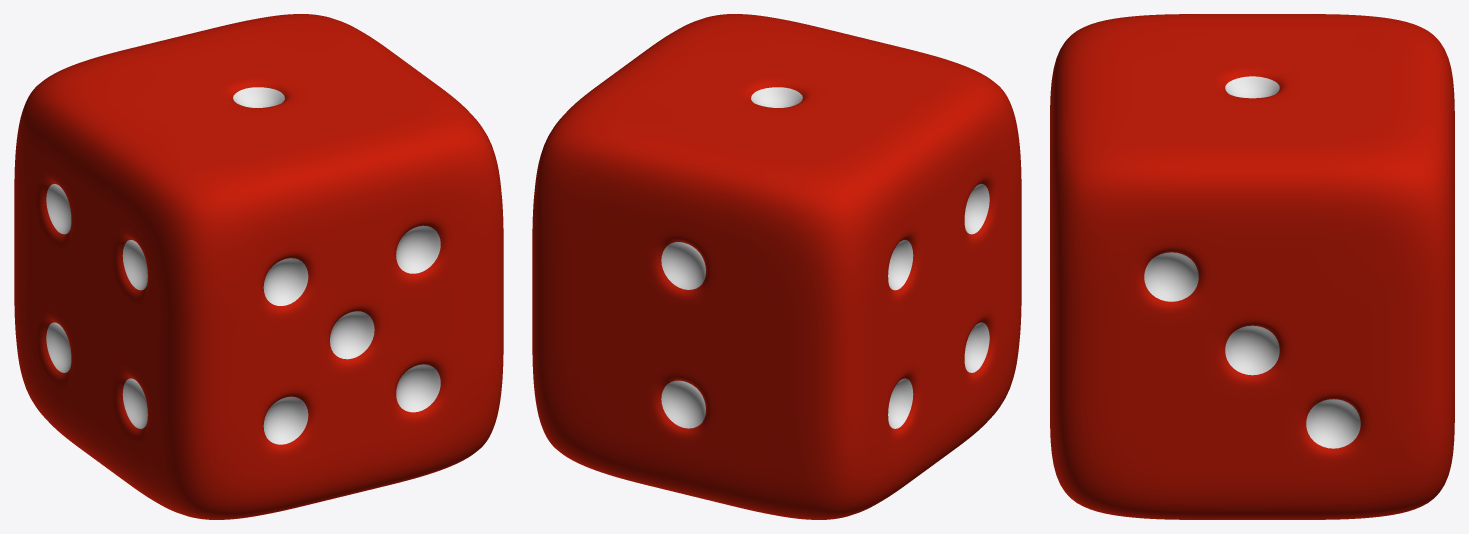
File: dice.glb
3 views of the same model, side by side, from view 1: azimuth 30°, elevation 25°; view 2: azimuth 150°, elevation 25°; view 3: azimuth 270°, elevation 25° (orthographic). The views are drawn at different scales.
Parts seen in each view (by area): view 1: Cube; view 2: Cube; view 3: Cube.
Boxes of the visible parts, x1=… form: Cube: x1=14, y1=14, x2=503, y2=519; Cube: x1=532, y1=14, x2=1021, y2=519; Cube: x1=1050, y1=14, x2=1454, y2=519.
Size of the model in its own units: 2 by 2 by 2.
